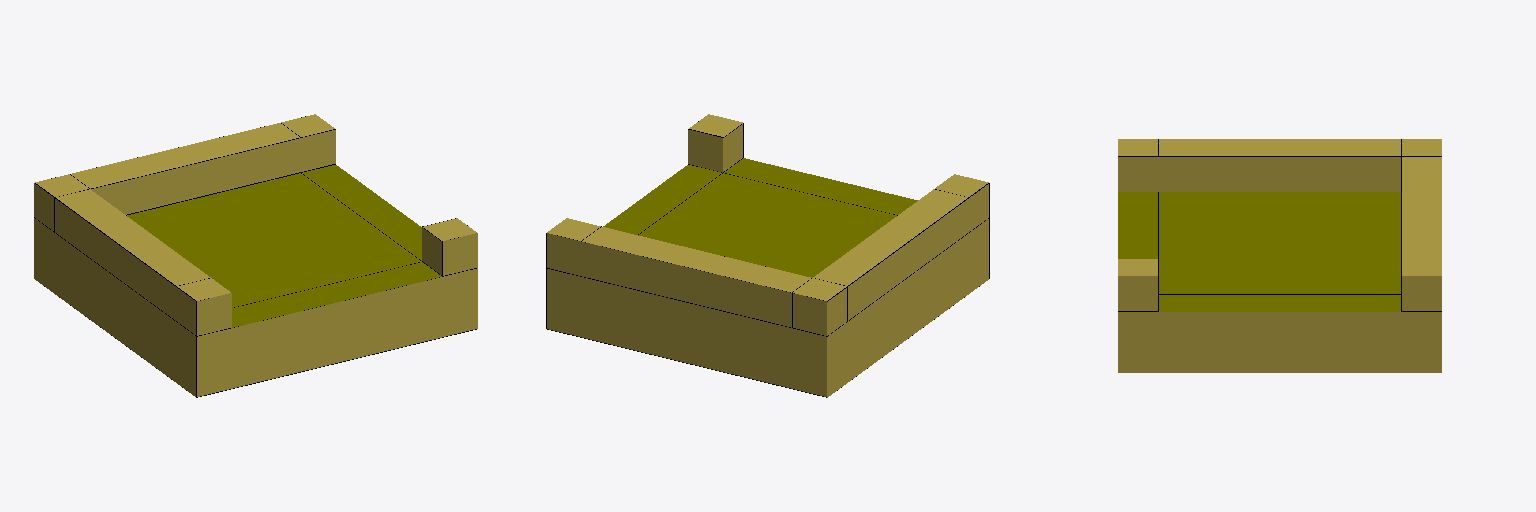
3 views of the same model, side by side, from view 1: azimuth 30°, elevation 25°; view 2: azimuth 150°, elevation 25°; view 3: azimuth 270°, elevation 25° (orthographic).
Visible parts, largest first — view 1: intersection_2_belt_Cube.024; view 2: intersection_2_belt_Cube.024; view 3: intersection_2_belt_Cube.024.
Part boxes in pixels (bbox=[...]): intersection_2_belt_Cube.024: bbox=[34, 114, 477, 397]; intersection_2_belt_Cube.024: bbox=[546, 114, 989, 397]; intersection_2_belt_Cube.024: bbox=[1118, 139, 1441, 372].
Bounding box in the file's own units: 2 × 0.6566 × 2.
1 materials, 1 textured.